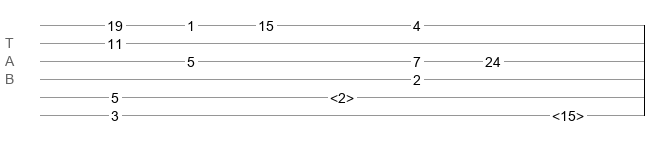1: (187, 18, 195, 28)
11: (107, 36, 123, 46)
15: (258, 18, 274, 28)
19: (107, 18, 123, 28)
2: (413, 72, 421, 82)
24: (485, 54, 501, 64)
3: (111, 108, 119, 118)
4: (413, 18, 421, 28)
5: (111, 90, 119, 100), (187, 54, 195, 64)
7: (413, 54, 421, 64)
harmonic: (552, 108, 584, 118), (330, 90, 354, 100)
